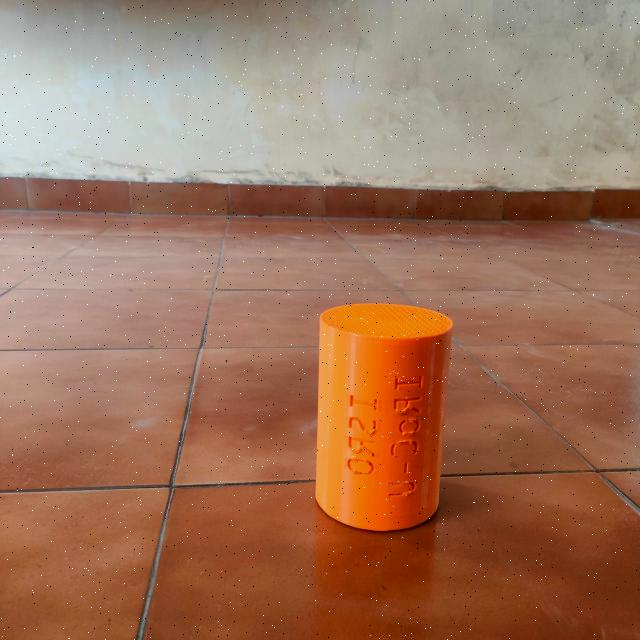Cylinder: (314, 302, 454, 532)
